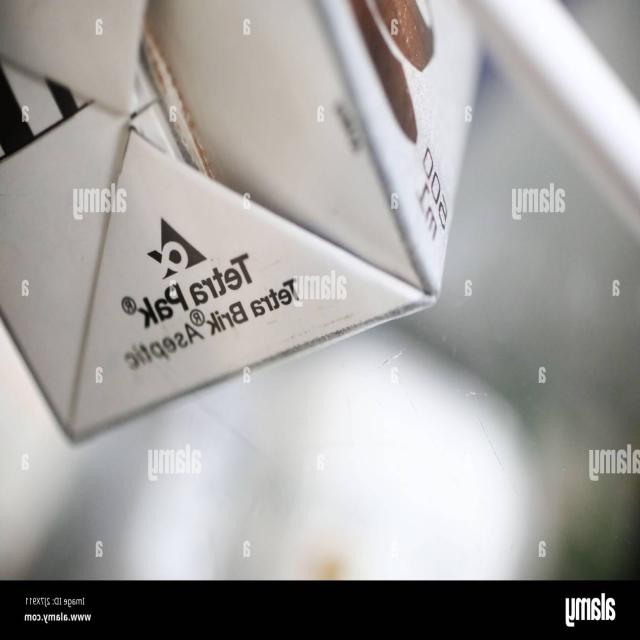cardboard: (0, 0, 482, 441)
